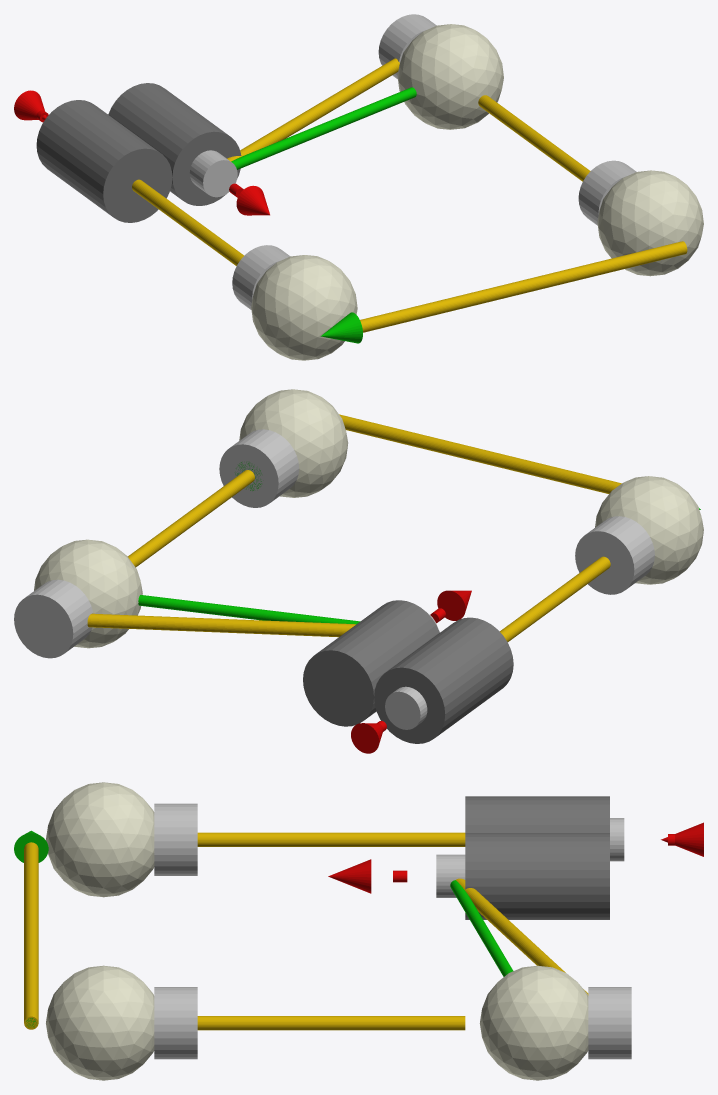
Rendered from series_circuit.glb.
3 renders of one model, top to bottom at view 1: azimuth 30°, elevation 25°; view 2: azimuth 150°, elevation 25°; view 3: azimuth 270°, elevation 25°, orthographic. The views are drawn at different scales.
Visible parts, largest first — view 1: world; view 2: world; view 3: world.
Part boxes in pixels (left/top/right/bottom): world: left=14, top=14, right=703, bottom=360; world: left=14, top=389, right=703, bottom=753; world: left=14, top=782, right=703, bottom=1080.
Bounding box in the file's own units: 3.8 × 0.8 × 4.77.
